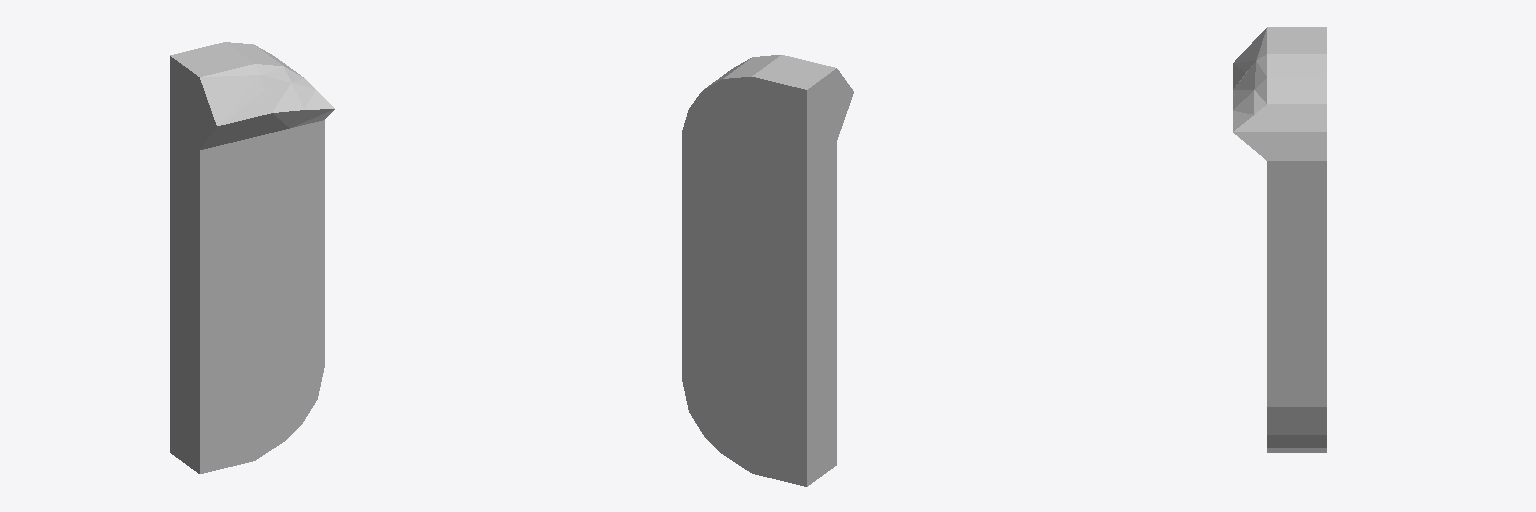
File: joycon demo.obj
3 views of the same model, side by side, from view 1: azimuth 30°, elevation 25°; view 2: azimuth 150°, elevation 25°; view 3: azimuth 270°, elevation 25° (orthographic).
Visible parts, largest first — view 1: pCube1 group1; view 2: pCube1 group1; view 3: pCube1 group1.
Boxes of the visible parts, box(x1,y1,x2,y2) form: pCube1 group1: box(170, 42, 334, 473); pCube1 group1: box(682, 55, 853, 486); pCube1 group1: box(1233, 27, 1326, 452).
Bounding box in the file's own units: 2.21 × 6.69 × 1.44.